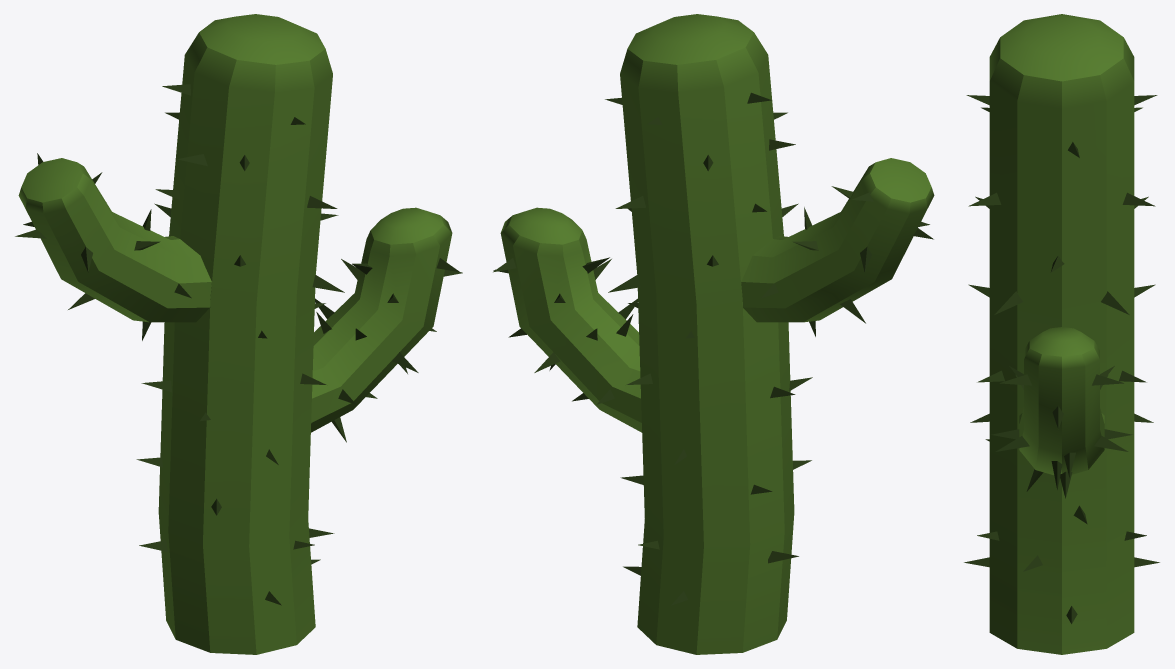
File: TwoArmedCactus.fbx
3 views of the same model, side by side, from view 1: azimuth 30°, elevation 25°; view 2: azimuth 150°, elevation 25°; view 3: azimuth 270°, elevation 25° (orthographic).
Parts seen in each view (by area): view 1: TwoArmedCactus; view 2: TwoArmedCactus; view 3: TwoArmedCactus.
Boxes of the visible parts, left/top/right/bottom form: TwoArmedCactus: left=15, top=14, right=462, bottom=654; TwoArmedCactus: left=493, top=14, right=934, bottom=654; TwoArmedCactus: left=964, top=14, right=1159, bottom=654.
Size of the model in its own units: 10.17 by 12.95 by 3.85.
